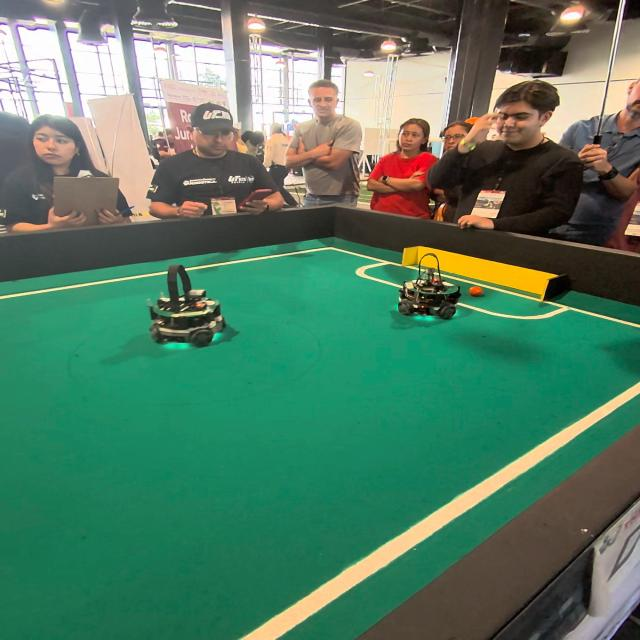Robot: (140, 260, 227, 354), (397, 248, 462, 326)
pelota: (470, 286, 482, 296)
